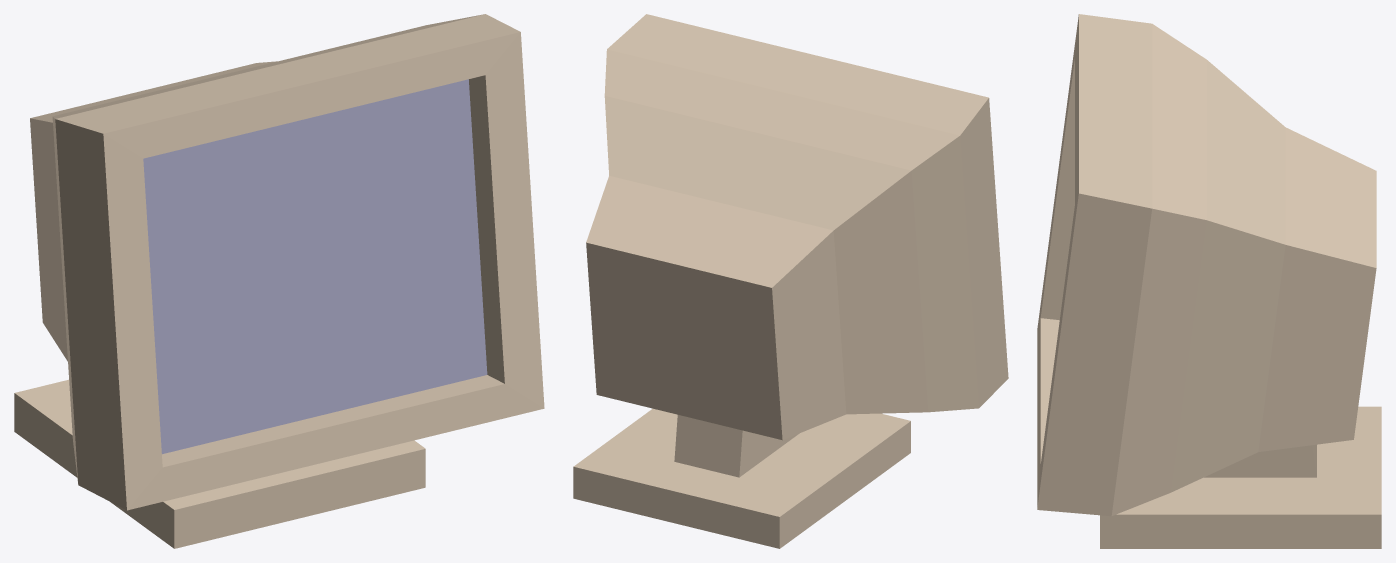
The model's file is Old Screen.fbx.
3 renders of one model, left to right at view 1: azimuth 30°, elevation 25°; view 2: azimuth 150°, elevation 25°; view 3: azimuth 270°, elevation 25°, orthographic. The views are drawn at different scales.
Parts seen in each view (by area): view 1: Old Screen; view 2: Old Screen; view 3: Old Screen.
Boxes of the visible parts, left/top/right/bottom form: Old Screen: left=14, top=14, right=544, bottom=548; Old Screen: left=573, top=14, right=1008, bottom=548; Old Screen: left=1037, top=14, right=1381, bottom=548.
Size of the model in its own units: 0.7393 by 0.729 by 0.5821.
